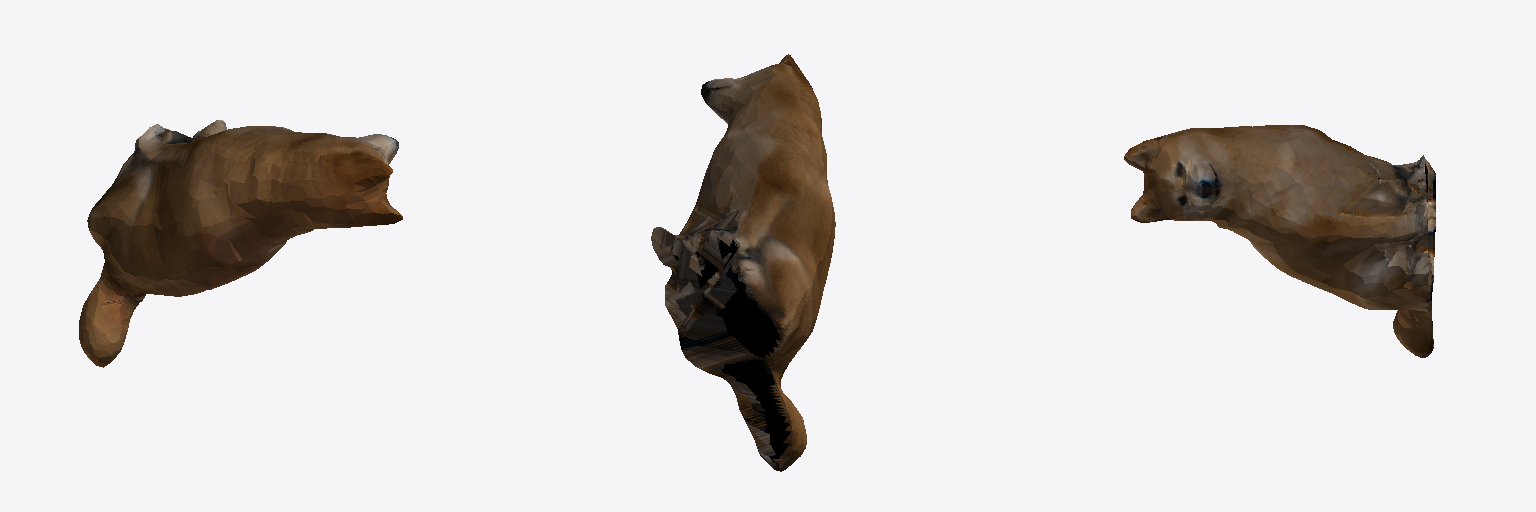
3 renders of one model, left to right at view 1: azimuth 30°, elevation 25°; view 2: azimuth 150°, elevation 25°; view 3: azimuth 270°, elevation 25°, orthographic.
Bounding box in the file's own units: 0.3956 × 0.5121 × 0.5123.
1 materials, 1 textured.